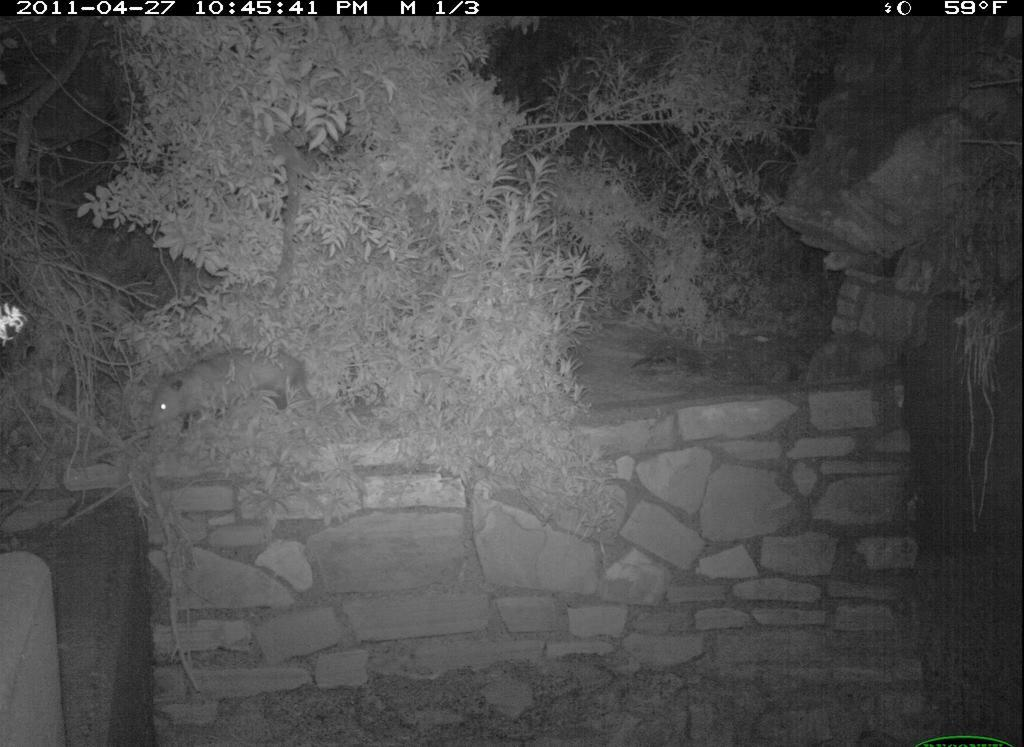opossum: (141, 335, 321, 432)
